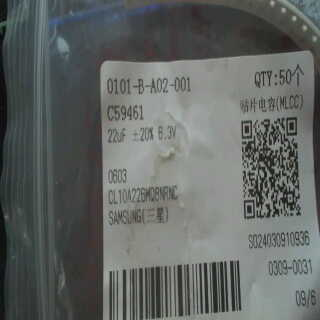22uF: (104, 125, 130, 145)
